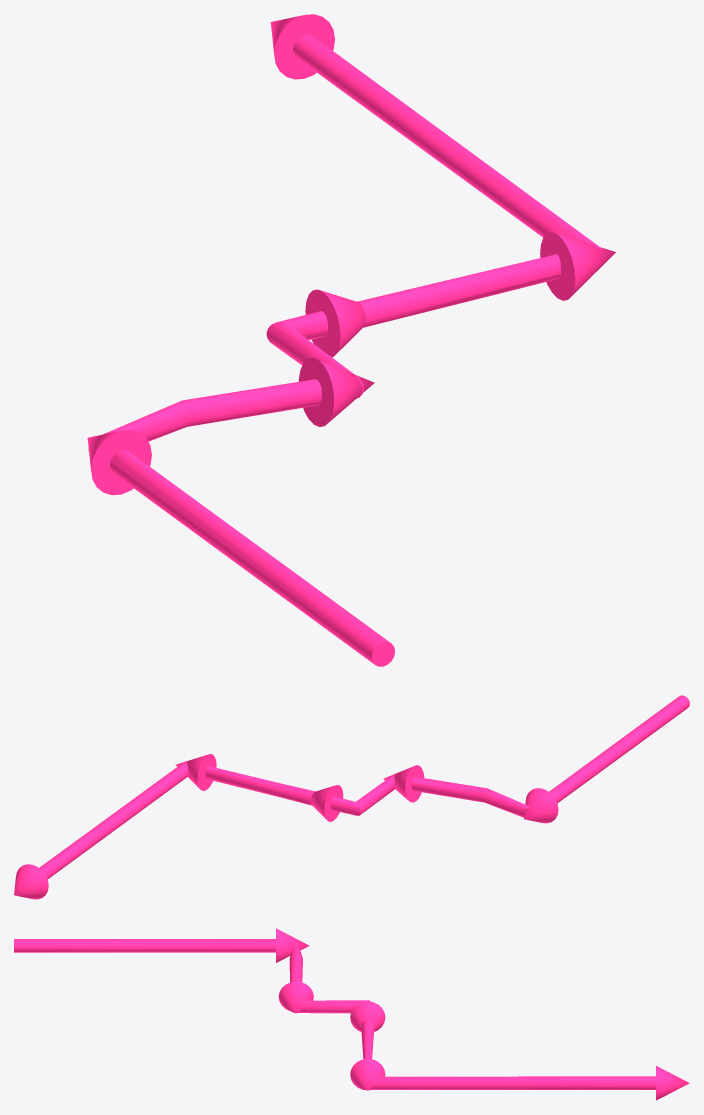
The model's file is speed_reducer_flow.glb.
3 views of the same model, one above another, from view 1: azimuth 30°, elevation 25°; view 2: azimuth 150°, elevation 25°; view 3: azimuth 270°, elevation 25° (orthographic). The views are drawn at different scales.
Parts seen in each view (by area): view 1: power; view 2: power; view 3: power.
Part boxes in pixels (<box>): power: <box>87,14,615,666</box>; power: <box>14,695,689,899</box>; power: <box>14,928,689,1100</box>.
Size of the model in its own units: 0.4788 by 0.0488 by 0.898.
